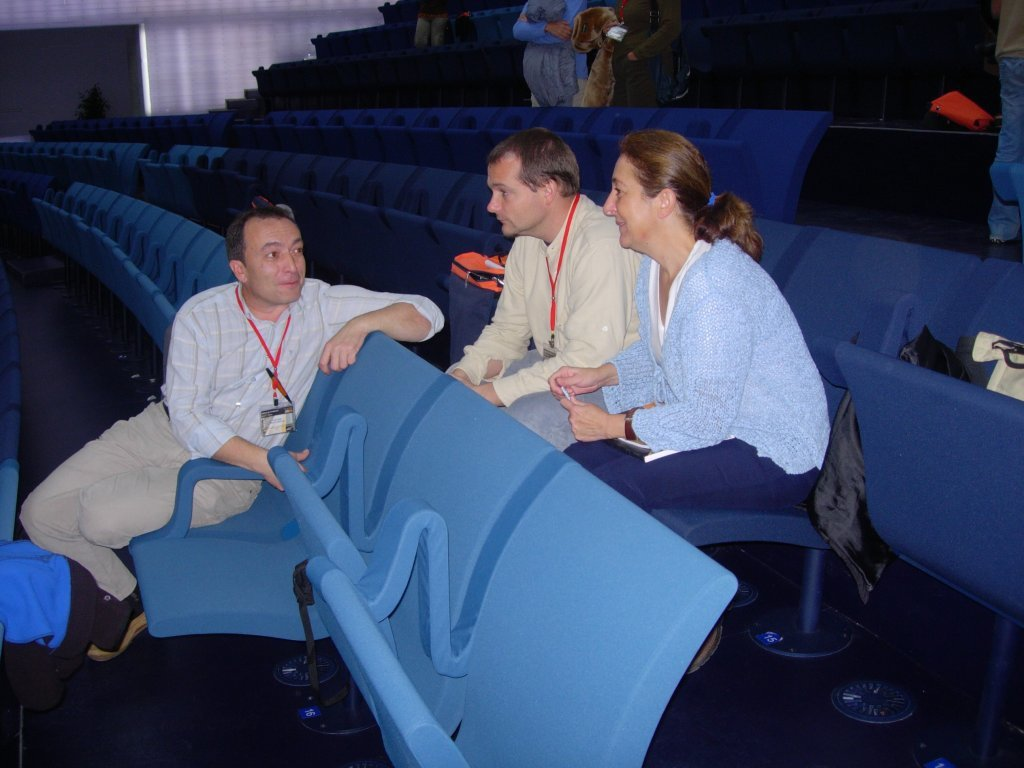Human_hand: (319, 322, 368, 376), (261, 448, 312, 497), (561, 401, 611, 444), (546, 363, 598, 400), (544, 19, 569, 38), (451, 371, 472, 385), (625, 50, 639, 62)
